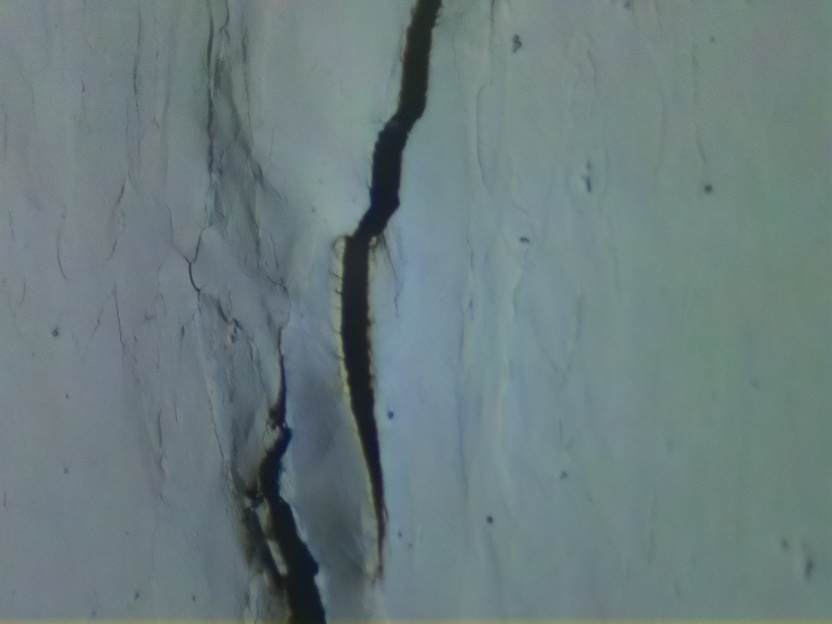crack: (342, 0, 442, 570), (239, 323, 324, 624)
